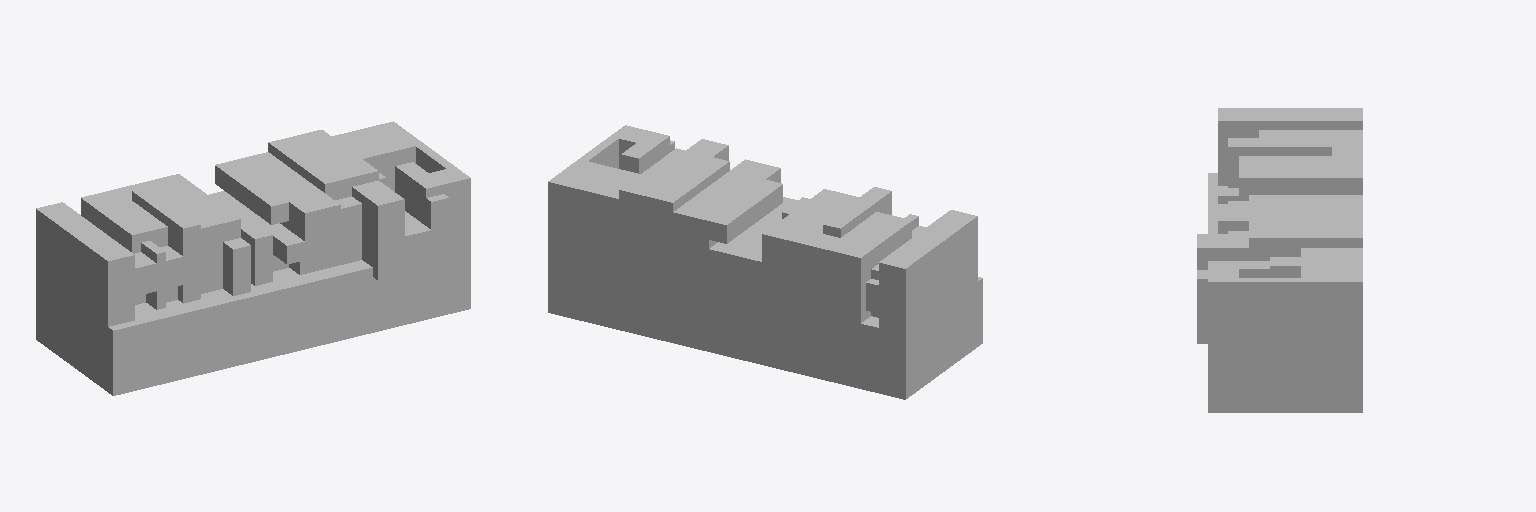
File: outter tiel-111.obj
The picture shows the model from 3 angles: view 1: azimuth 30°, elevation 25°; view 2: azimuth 150°, elevation 25°; view 3: azimuth 270°, elevation 25°; orthographic projection.
Visible parts, largest first — view 1: outter tiel-111; view 2: outter tiel-111; view 3: outter tiel-111.
Part boxes in pixels (x1,y1,x2,y2): outter tiel-111: (36, 121, 470, 395); outter tiel-111: (548, 125, 982, 399); outter tiel-111: (1197, 108, 1362, 412).
Size of the model in its own units: 40 by 15 by 16.